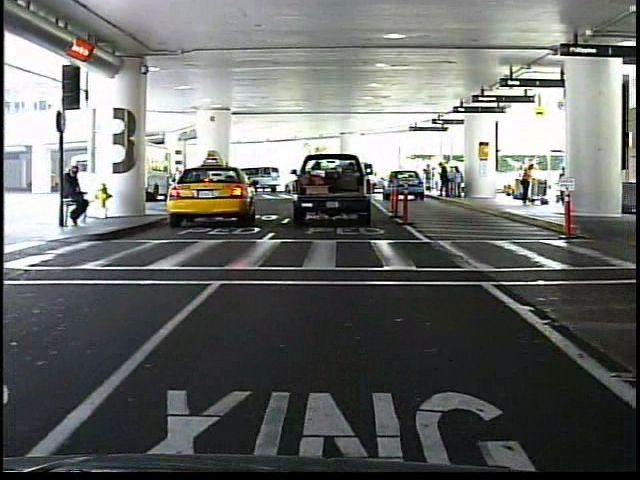person: (64, 160, 94, 231), (517, 158, 538, 209), (557, 159, 572, 210), (423, 162, 435, 196)
